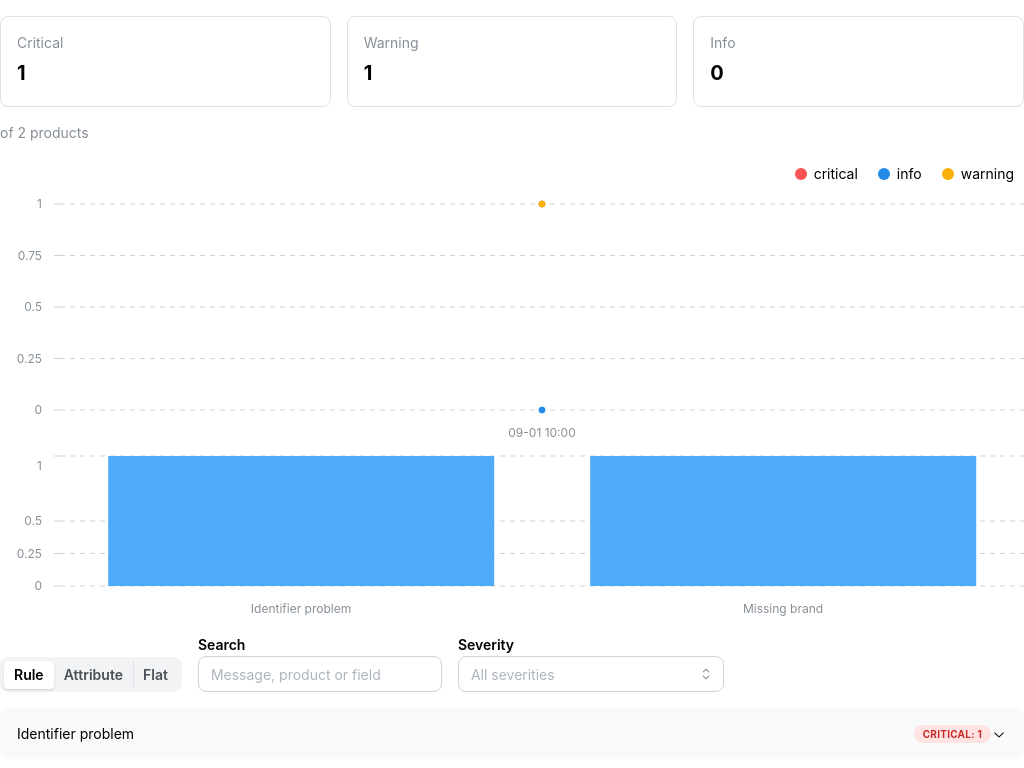
Scenario: MonitoringFindingsPage › opens the product drawer from a finding
This screenshot has width=1024, height=768.
Click the radio button labelled "Flat" at (155, 674), box [143,666,168,683]
(page scrolled)
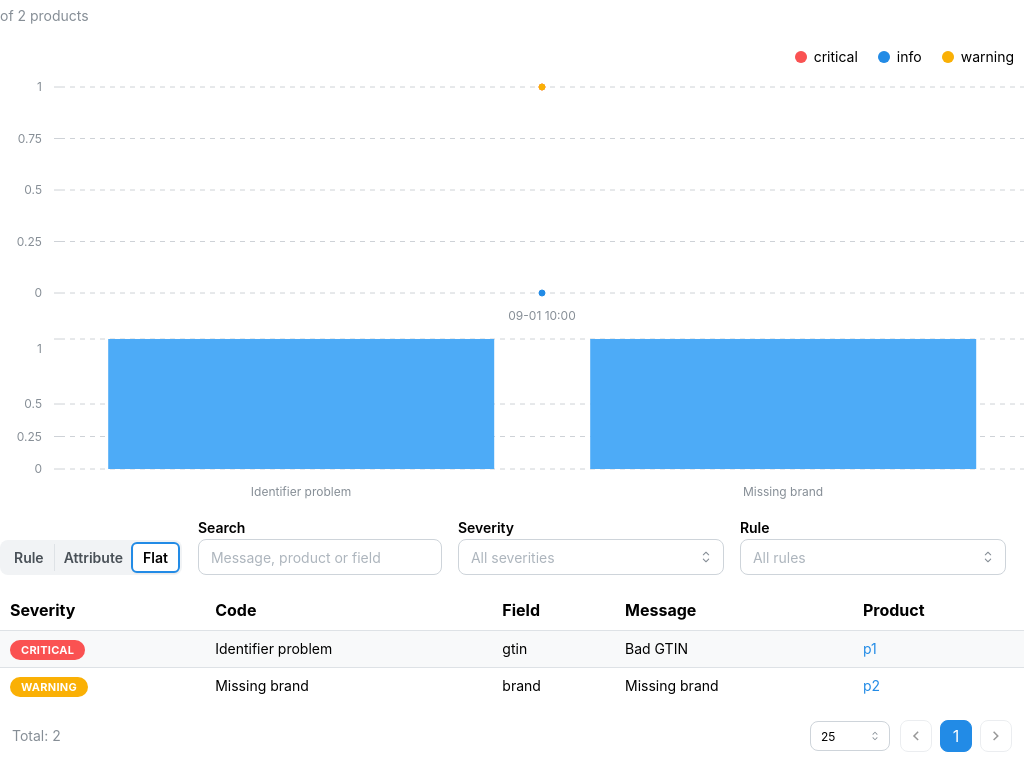
Click the button named "Open product p1" at (870, 649), box [863,639,877,660]
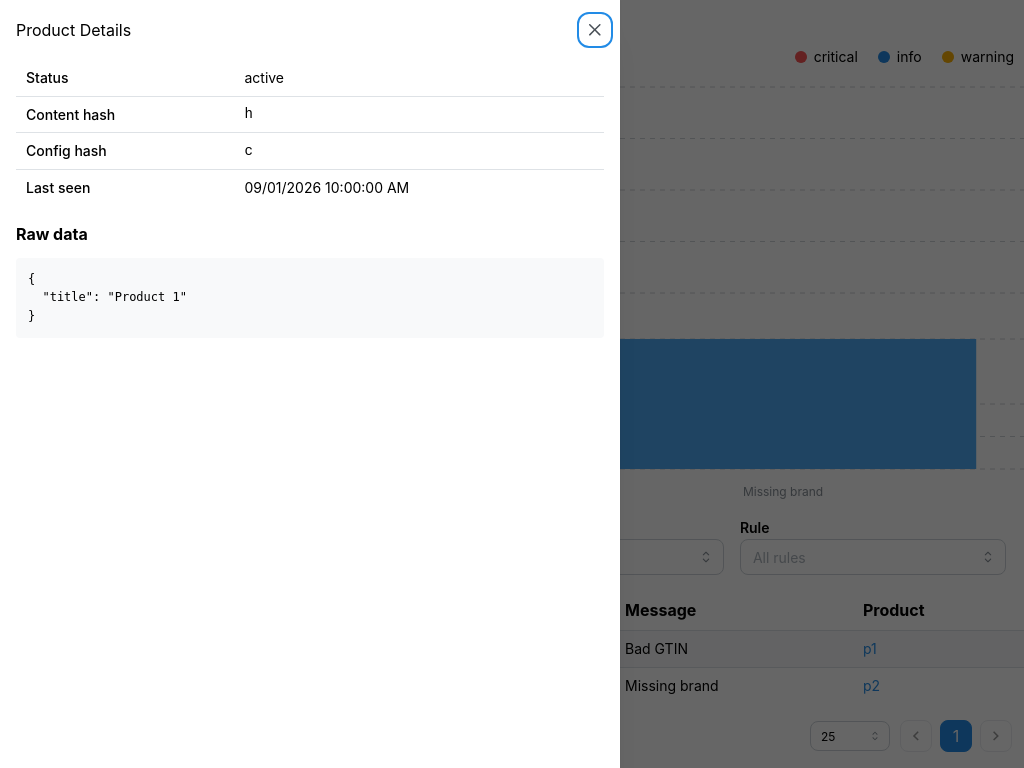
Result: the heading "Product Details" is shown at [16,22,131,38]
